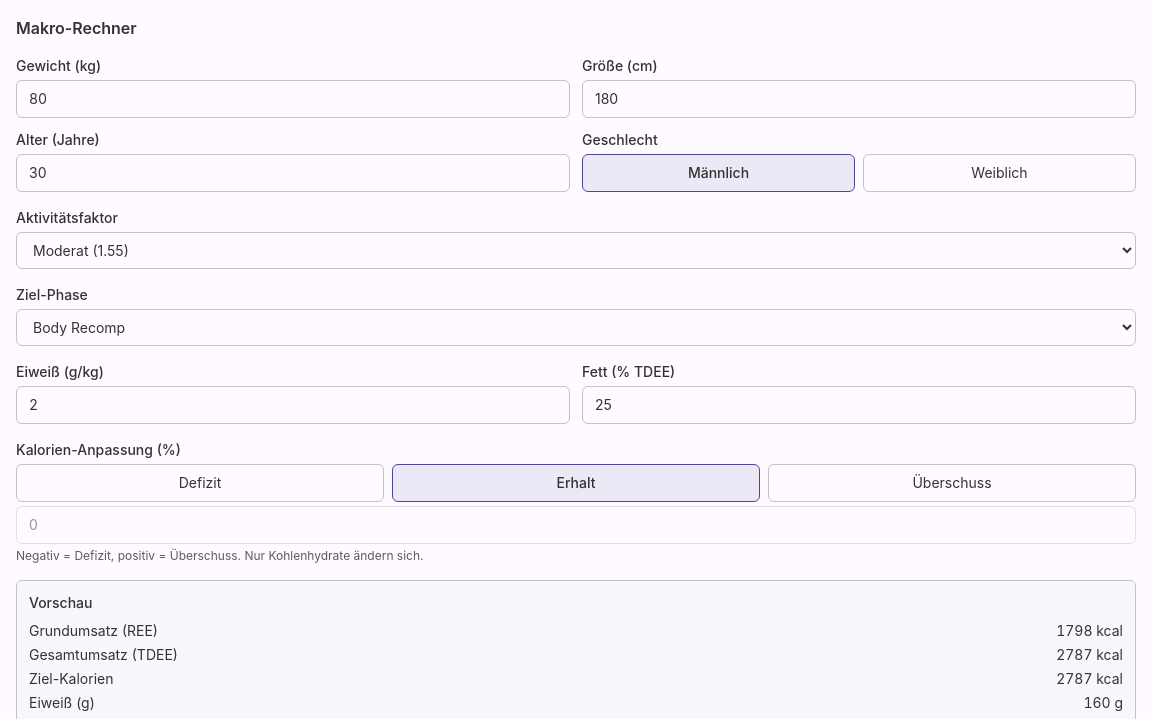
Test: BodyProfileForm › live preview reflects edits
The width and height of the screenshot is (1152, 719).
Expected: the heading "Makro-Rechner" is shown, 16,18 -> 137,38
Expected: the text "160 g" is shown, 1083,694 -> 1123,711
Replace the text in the field labelled "Gewicht (kg)" with "90". click: (293,99)
box: 16,80 -> 570,118
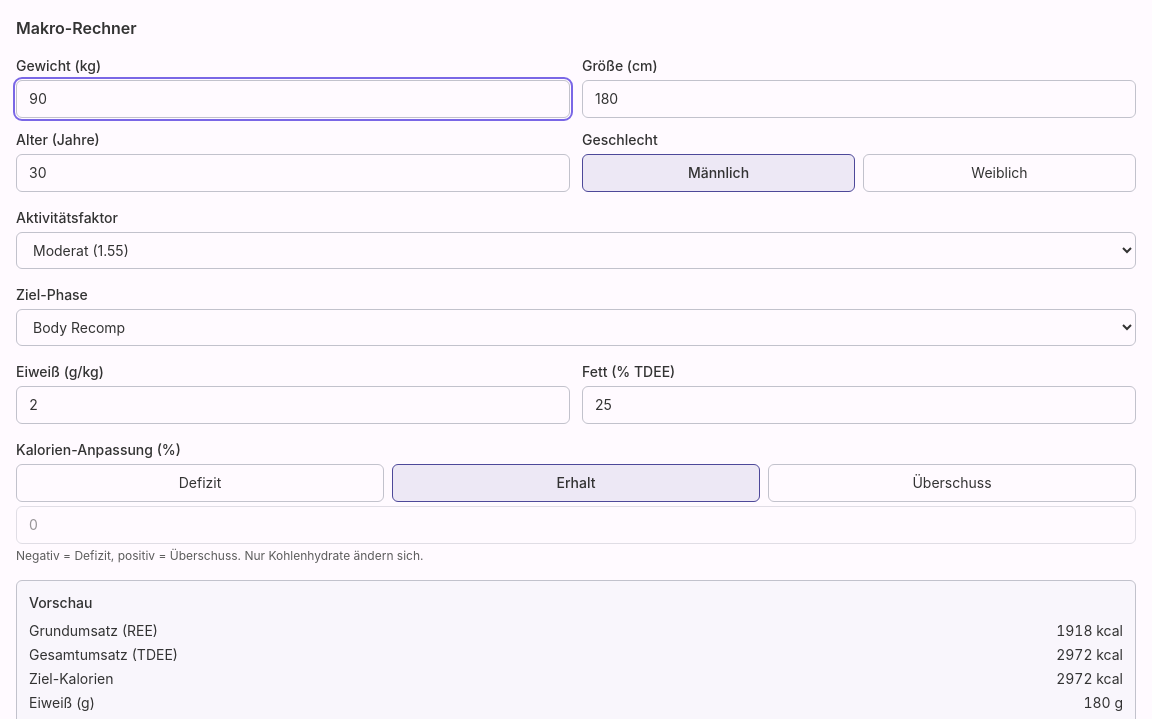
Expected: the text "180 g" is shown, 1083,694 -> 1123,711
